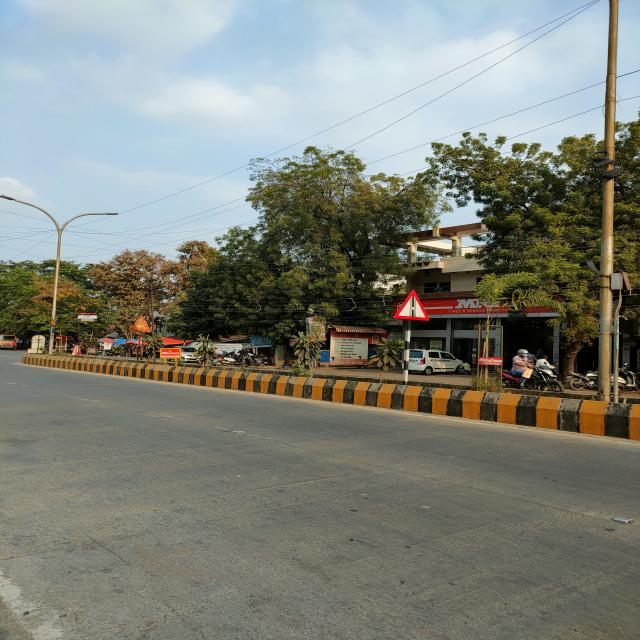GAP_IN_MEDIAN: (393, 290, 431, 321)
